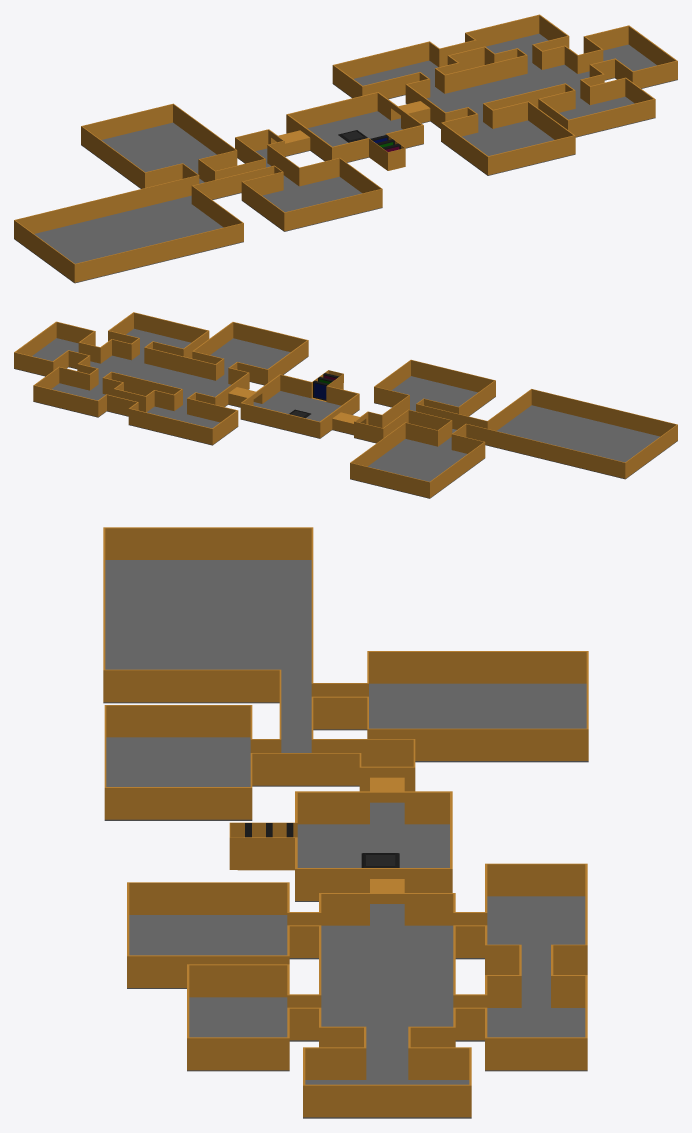
File: Level 01.fbx
The picture shows the model from 3 angles, top to bottom: view 1: azimuth 30°, elevation 25°; view 2: azimuth 150°, elevation 25°; view 3: azimuth 270°, elevation 25°; orthographic projection. The views are drawn at different scales.
Visible parts, largest first — view 1: Walls, Floor; view 2: Walls, Floor; view 3: Walls, Floor.
Part boxes in pixels (<box>): Walls: <box>14,14,677,282</box>; Floor: <box>14,33,677,283</box>; Walls: <box>14,312,677,498</box>; Floor: <box>14,328,677,498</box>; Walls: <box>103,527,588,1117</box>; Floor: <box>103,560,588,1118</box>.
Bounding box in the file's own units: 22427 × 617 × 8236.
